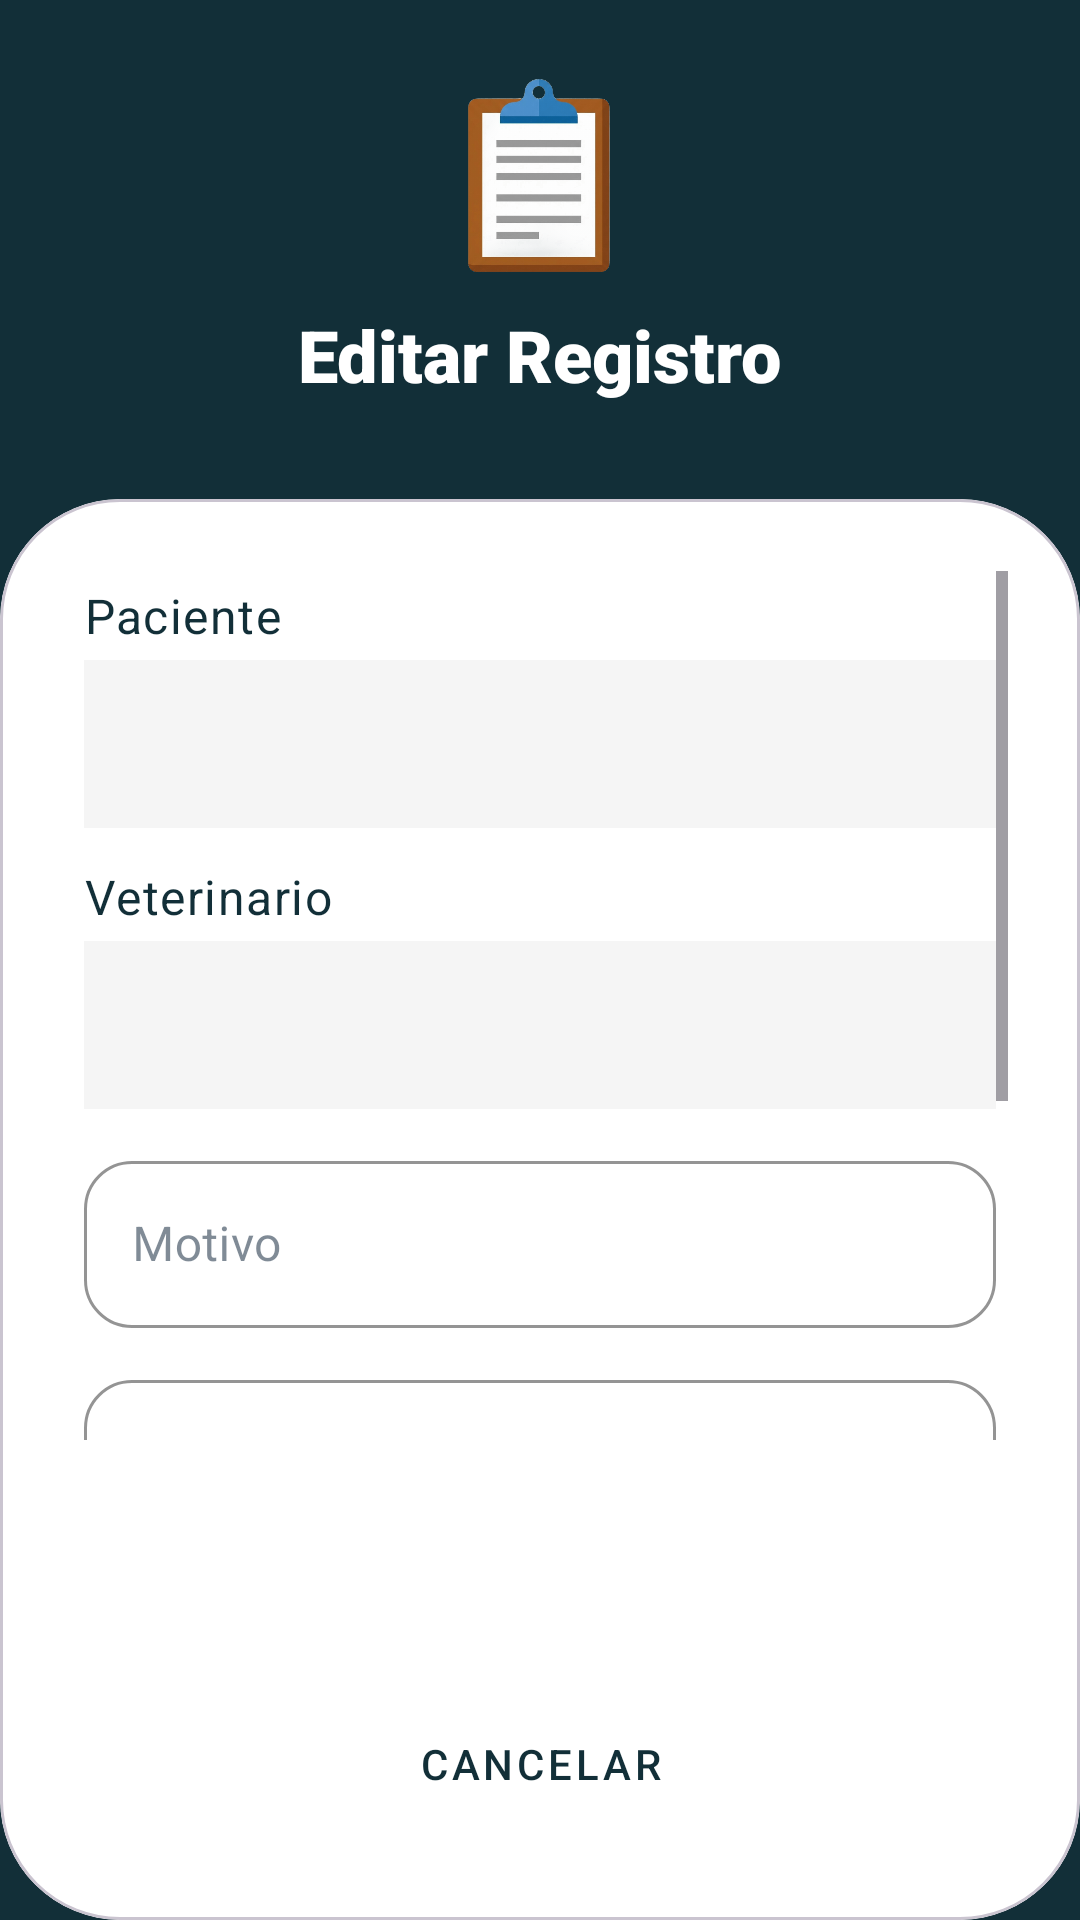

Named icons in this screenshot (1080px x 1920px) and their bounding boxes, (x1, y1, x2, y2):
notas: (468, 79, 610, 272)
